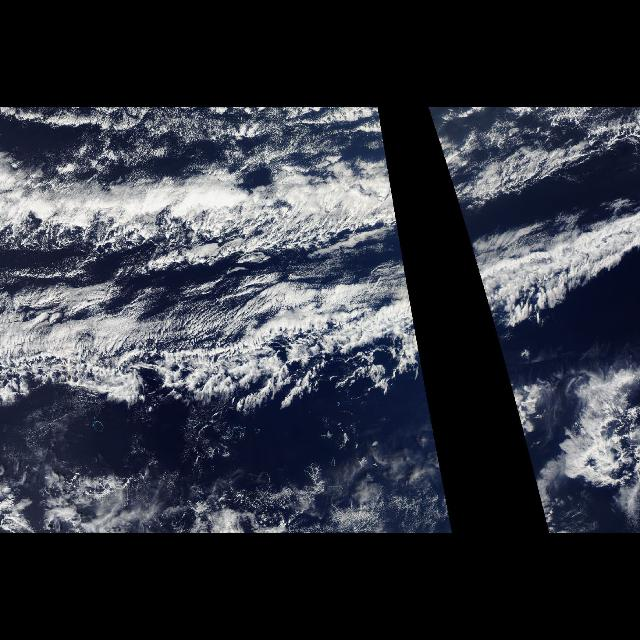Fish: (0, 128, 440, 464), (434, 128, 640, 464)
Sugar: (1, 108, 381, 168)
